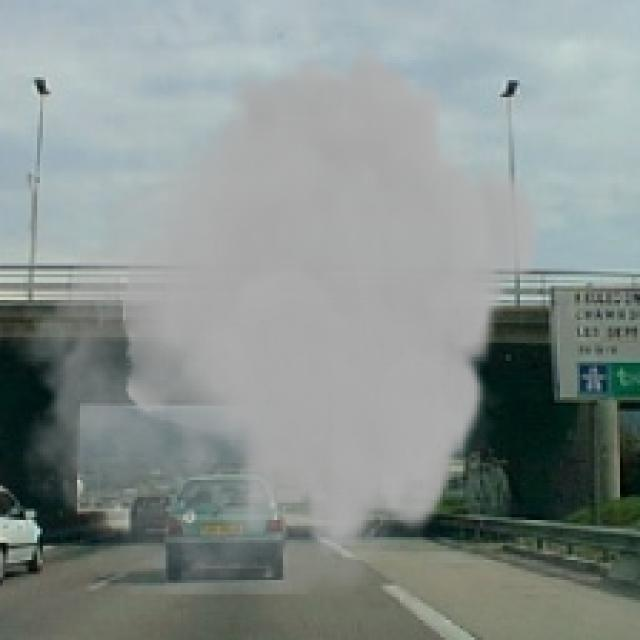smoke: (6, 43, 546, 594)
